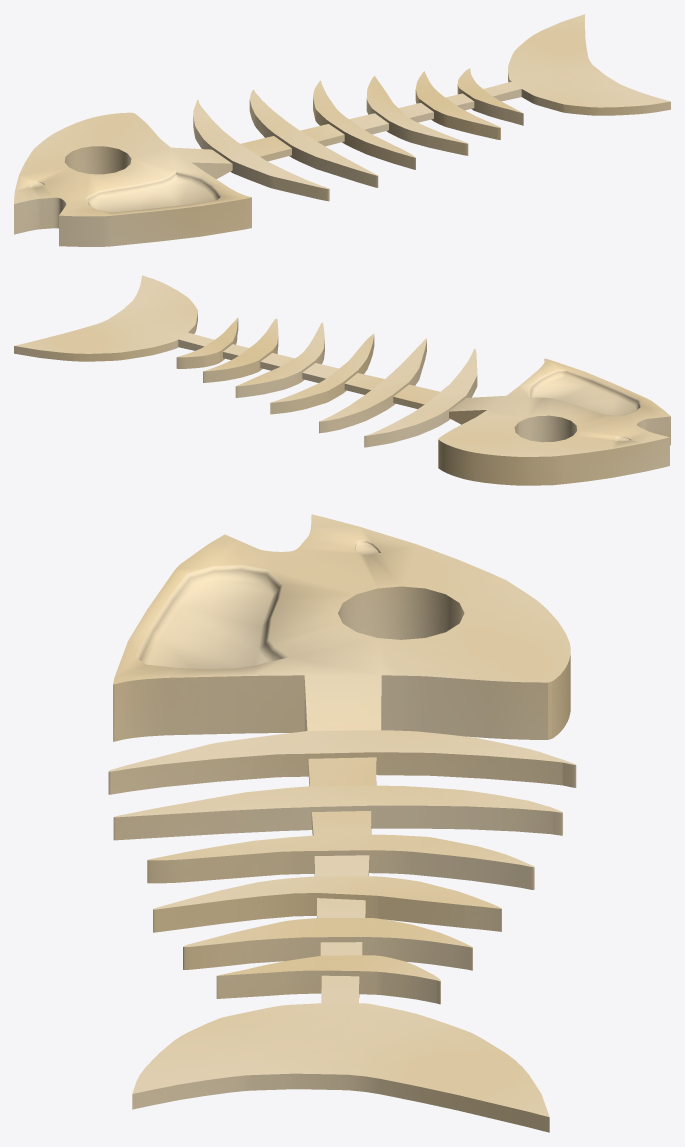
Rendered from Fish skeleton.fbx.
3 views of the same model, one above another, from view 1: azimuth 30°, elevation 25°; view 2: azimuth 150°, elevation 25°; view 3: azimuth 270°, elevation 25° (orthographic). The views are drawn at different scales.
Parts seen in each view (by area): view 1: Fish_Skeleton; view 2: Fish_Skeleton; view 3: Fish_Skeleton.
Part boxes in pixels (x1=…): Fish_Skeleton: x1=14, y1=14, x2=670, y2=246; Fish_Skeleton: x1=14, y1=275, x2=670, y2=485; Fish_Skeleton: x1=108, y1=514, x2=576, y2=1132.
Size of the model in its own units: 113 by 5.21 by 38.42.
Materials: 1 (1 with a texture image).
